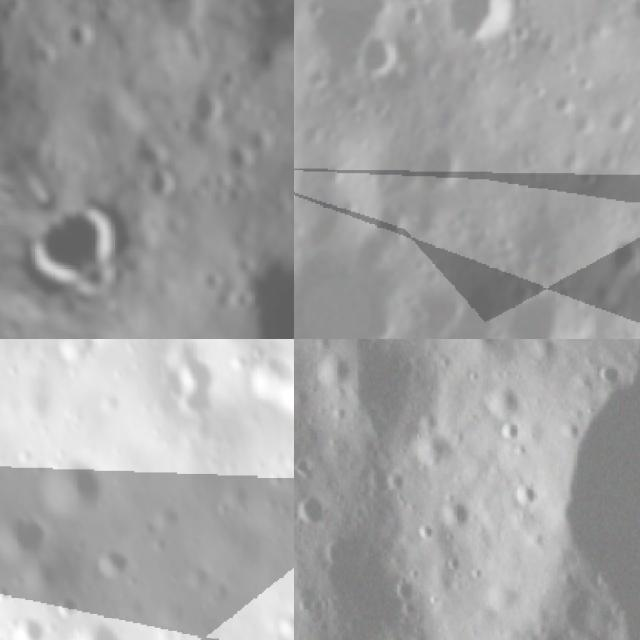crater: (493, 339, 640, 640), (46, 166, 157, 287), (238, 1, 294, 214), (107, 114, 206, 222), (205, 223, 294, 339), (294, 259, 404, 339), (23, 447, 115, 518), (150, 339, 219, 417), (497, 278, 575, 339), (405, 421, 469, 487), (174, 74, 237, 140), (248, 339, 294, 423), (0, 495, 50, 561), (142, 0, 220, 41), (55, 3, 111, 58), (430, 489, 480, 546), (417, 142, 471, 192), (450, 0, 514, 41), (294, 486, 340, 543), (309, 350, 360, 401), (353, 30, 407, 76), (85, 542, 142, 582), (24, 547, 64, 590), (74, 609, 129, 640), (604, 233, 640, 275), (7, 611, 55, 640), (52, 584, 85, 619), (570, 108, 598, 137), (550, 87, 576, 113), (625, 0, 640, 28)
